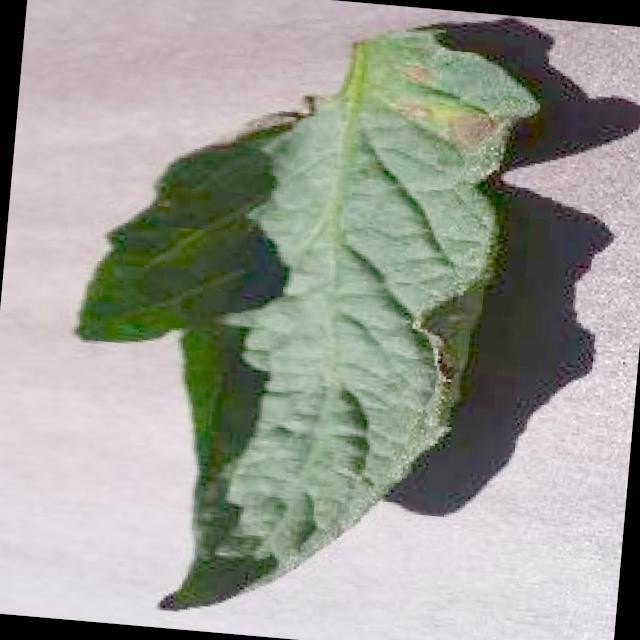Tomato Early blight leaf: (50, 0, 544, 640)
